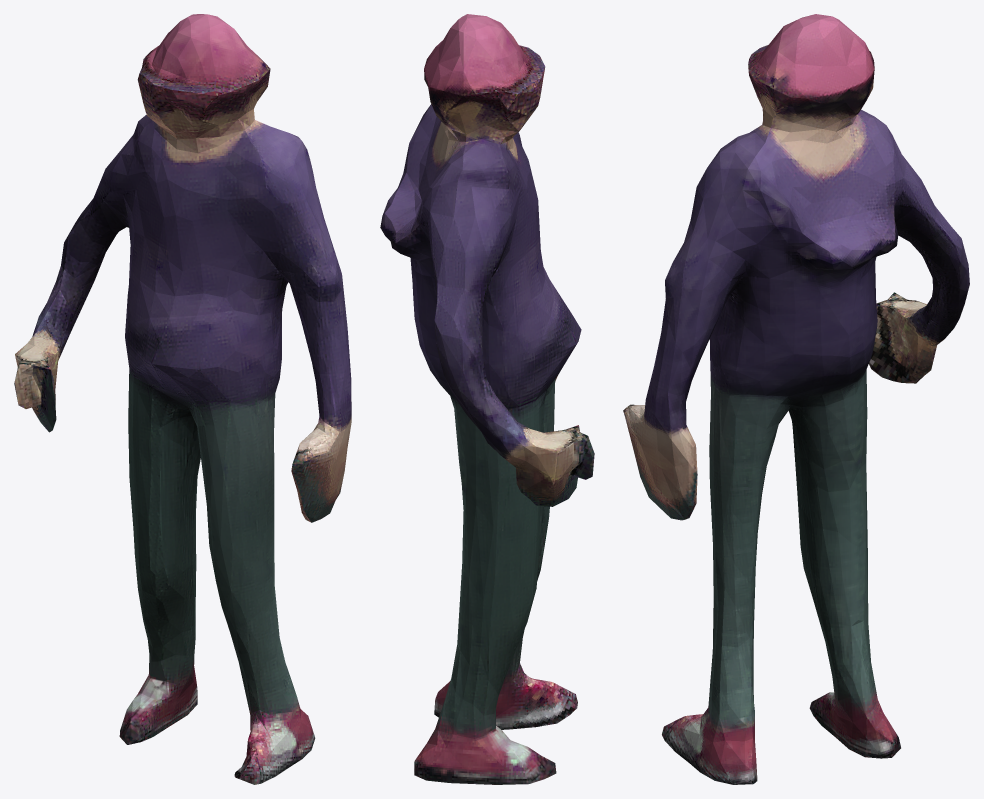
Rendered from after.glb.
3 views of the same model, side by side, from view 1: azimuth 30°, elevation 25°; view 2: azimuth 150°, elevation 25°; view 3: azimuth 270°, elevation 25° (orthographic). The views are drawn at different scales.
Parts seen in each view (by area): view 1: world; view 2: world; view 3: world.
Part boxes in pixels (<box>): world: <box>14,14,351,784</box>; world: <box>380,14,594,784</box>; world: <box>623,14,969,784</box>.
Bounding box in the file's own units: 0.1467 × 0.4306 × 0.183.
1 material, 1 textured.
